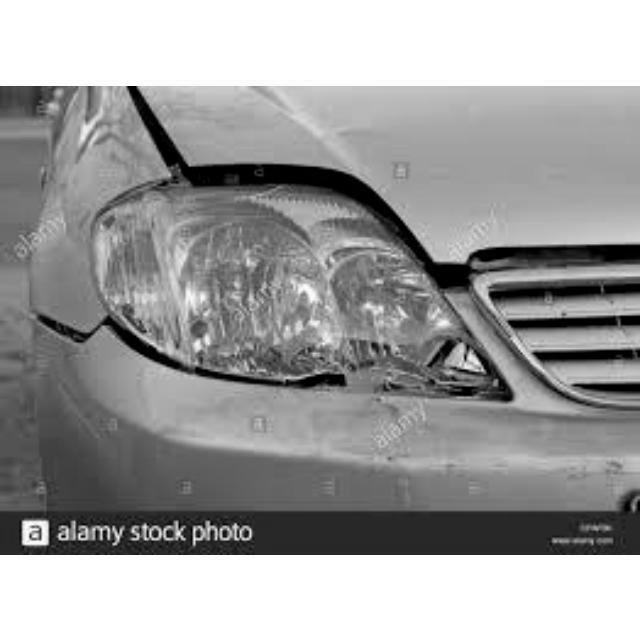Headlight-damage: (59, 159, 515, 410)
